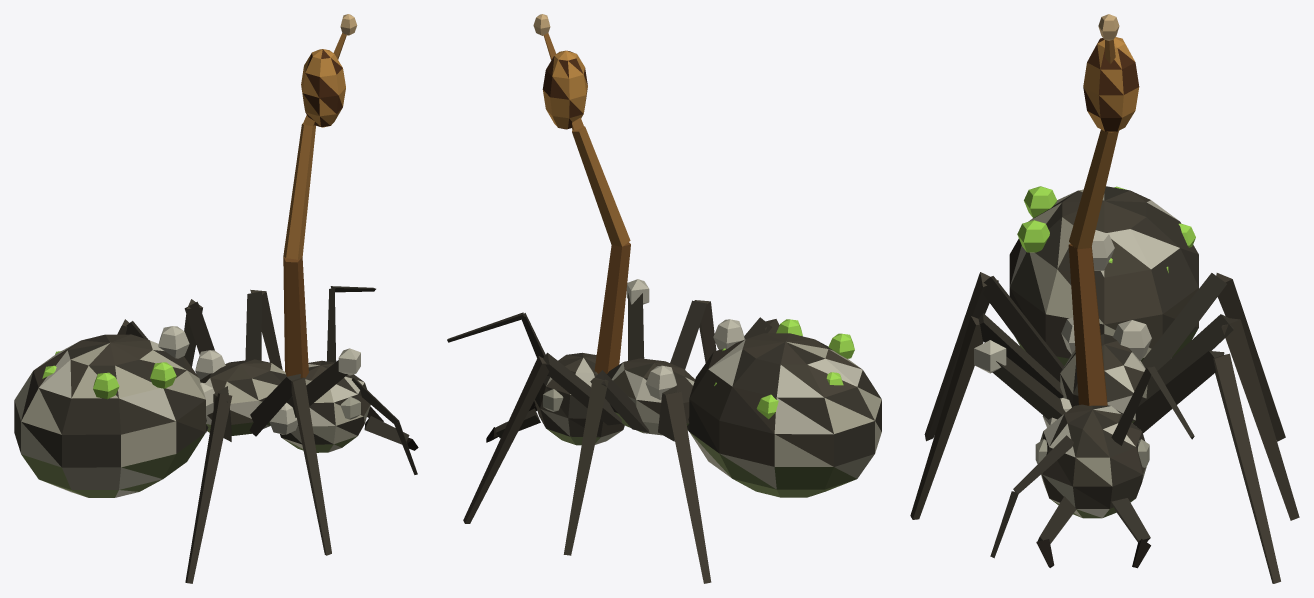
File: wild-bosses-infected-ant.glb
3 views of the same model, side by side, from view 1: azimuth 30°, elevation 25°; view 2: azimuth 150°, elevation 25°; view 3: azimuth 270°, elevation 25° (orthographic). The views are drawn at different scales.
Size of the model in its own units: 11.96 by 13.47 by 8.39.
